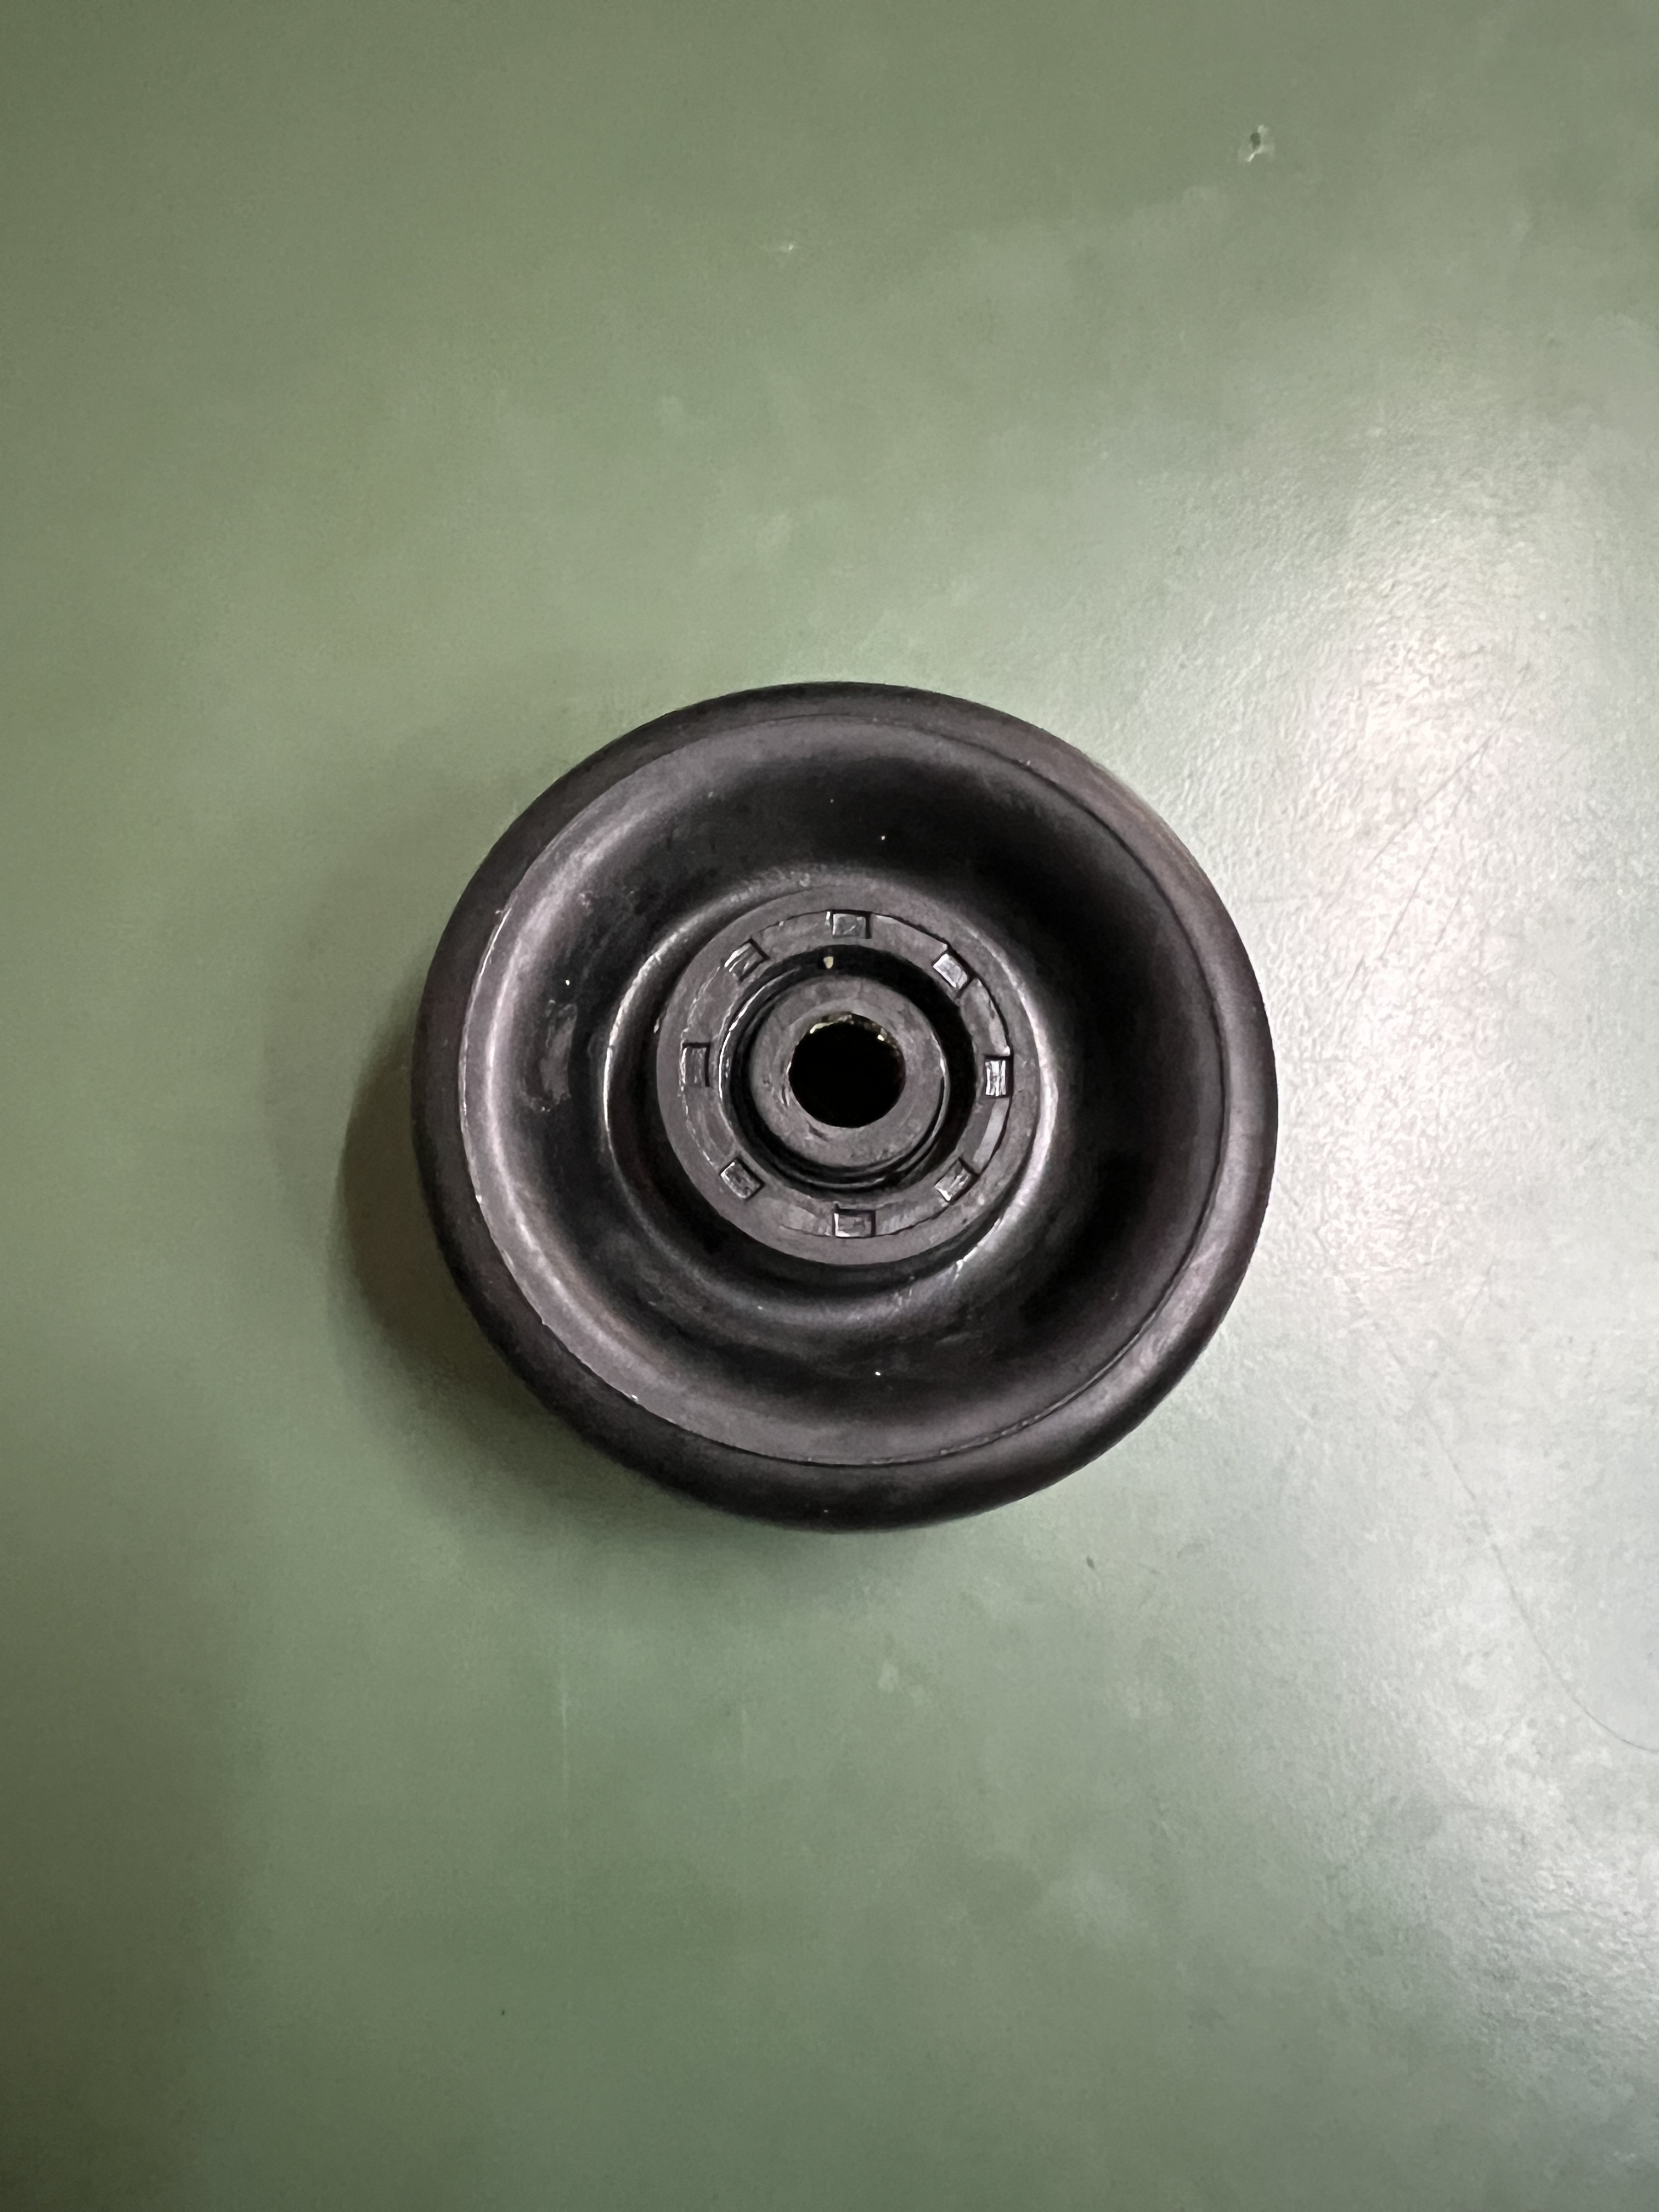lever: (390, 671, 1297, 1541)
